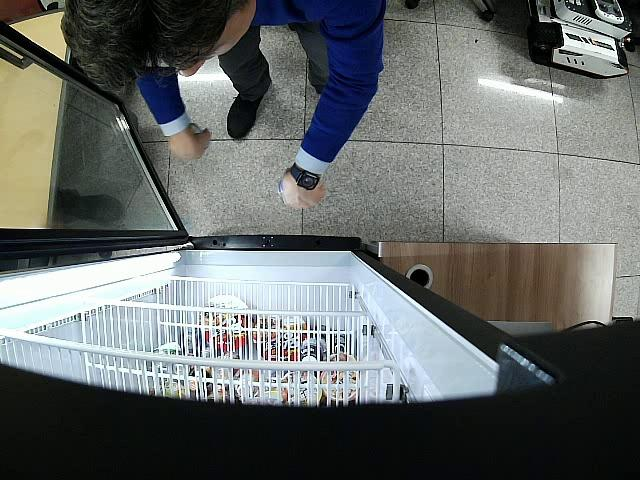00_hand: (282, 181, 327, 211), (169, 130, 212, 161)
